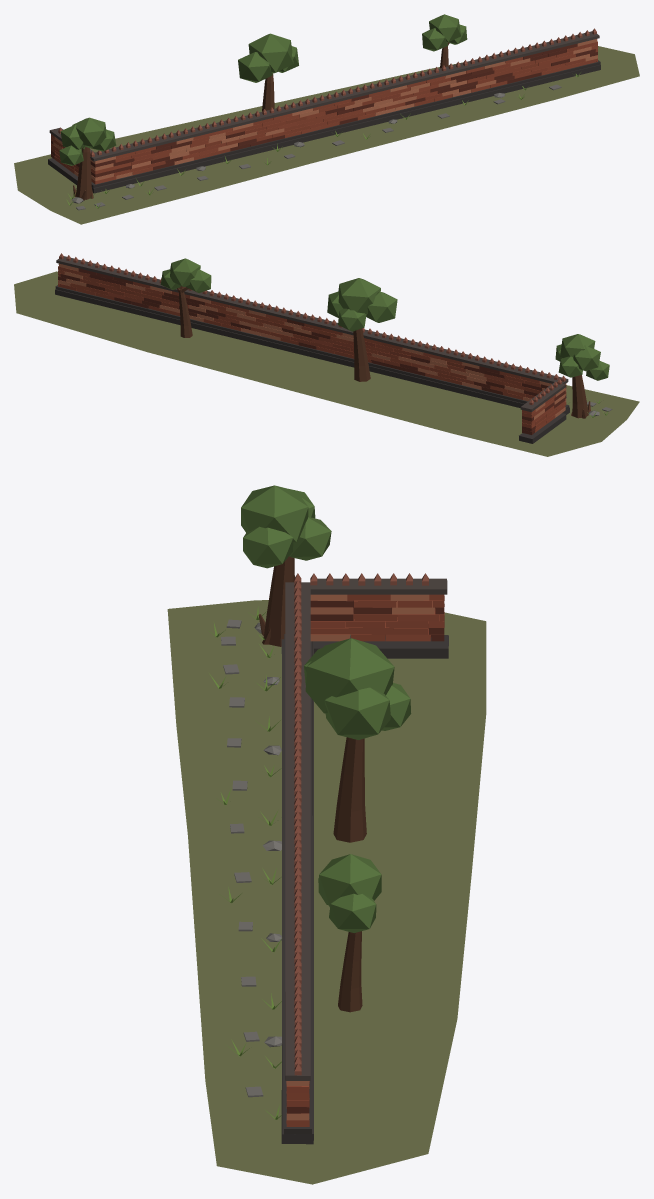
Rendered from TempleWall.fbx.
3 views of the same model, one above another, from view 1: azimuth 30°, elevation 25°; view 2: azimuth 150°, elevation 25°; view 3: azimuth 270°, elevation 25° (orthographic). The views are drawn at different scales.
Parts seen in each view (by area): view 1: Ground_Terrain, Wall_Bricks, Wall_Foundation, Wall_Coping, Tree_Mid_Wall_Leaves, Wall_Pointed_Ornaments, Tree_Ancient_Corner_Leaves, Tree_Far_Wall_Leaves, Stepping_Stones_And_Rocks, Tree_Ancient_Corner_Trunk, Tree_Mid_Wall_Trunk; view 2: Ground_Terrain, Wall_Bricks, Wall_Foundation, Wall_Coping, Tree_Mid_Wall_Leaves, Wall_Pointed_Ornaments, Tree_Ancient_Corner_Leaves, Tree_Far_Wall_Leaves, Tree_Mid_Wall_Trunk, Tree_Ancient_Corner_Trunk, Tree_Far_Wall_Trunk; view 3: Ground_Terrain, Wall_Coping, Tree_Mid_Wall_Leaves, Wall_Bricks, Wall_Foundation, Tree_Ancient_Corner_Leaves, Wall_Pointed_Ornaments, Tree_Far_Wall_Leaves, Tree_Mid_Wall_Trunk, Stepping_Stones_And_Rocks, Tree_Ancient_Corner_Trunk, Tree_Far_Wall_Trunk (+1 smaller).
Boxes of the visible parts, x1,y1,x2,y2 form: Ground_Terrain: (14,46,639,224); Wall_Bricks: (51,39,597,184); Wall_Foundation: (48,60,600,193); Wall_Coping: (49,31,599,161); Tree_Mid_Wall_Leaves: (238,33,298,82); Wall_Pointed_Ornaments: (58,28,596,156); Tree_Ancient_Corner_Leaves: (59,117,116,165); Tree_Far_Wall_Leaves: (422,14,467,51); Stepping_Stones_And_Rocks: (72,84,561,210); Tree_Ancient_Corner_Trunk: (73,147,93,200); Tree_Mid_Wall_Trunk: (262,74,274,111); Ground_Terrain: (14,271,639,456); Wall_Bricks: (58,263,566,434); Wall_Foundation: (55,285,569,443); Wall_Coping: (56,256,568,412); Tree_Mid_Wall_Leaves: (327,278,397,331); Wall_Pointed_Ornaments: (59,253,565,404); Tree_Ancient_Corner_Leaves: (555,334,609,380); Tree_Far_Wall_Leaves: (160,258,211,292); Tree_Mid_Wall_Trunk: (353,328,370,381); Tree_Ancient_Corner_Trunk: (571,375,590,418); Tree_Far_Wall_Trunk: (177,286,192,337); Ground_Terrain: (167,600,486,1184); Wall_Coping: (285,578,447,1080); Tree_Mid_Wall_Leaves: (304,638,411,739); Wall_Bricks: (286,594,444,1126); Wall_Foundation: (281,634,448,1144); Tree_Ancient_Corner_Leaves: (241,485,331,568); Wall_Pointed_Ornaments: (294,573,428,1075); Tree_Far_Wall_Leaves: (318,854,381,932); Tree_Mid_Wall_Trunk: (333,737,366,842); Stepping_Stones_And_Rocks: (221,619,281,1097); Tree_Ancient_Corner_Trunk: (258,556,294,646); Tree_Far_Wall_Trunk: (338,931,362,1012).
Bounding box in the file's own units: 4800 × 815 × 1100.
